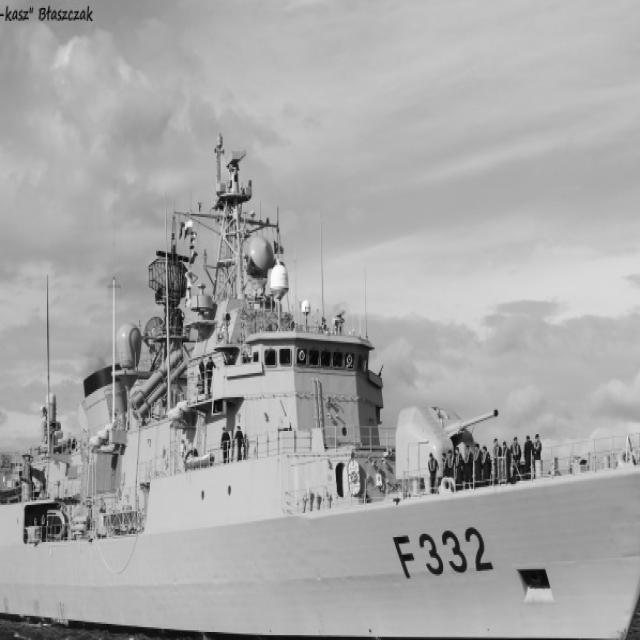Fragata: (1, 131, 640, 640)
